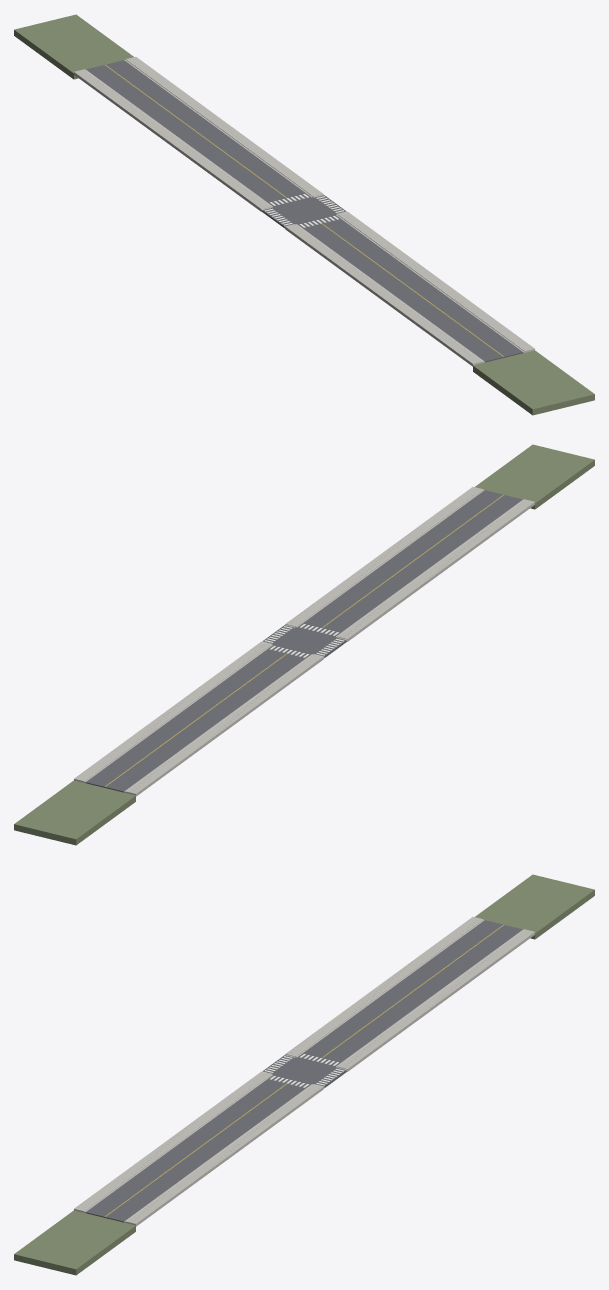
File: intersection.glb
3 renders of one model, top to bottom at view 1: azimuth 30°, elevation 25°; view 2: azimuth 150°, elevation 25°; view 3: azimuth 330°, elevation 25°, orthographic.
Visible parts, largest first — view 1: Road, Yards, Sidewalk, Gutters, SidewalkBase, Curbs, CenterLine, Crosswalks; view 2: Road, Yards, Sidewalk, Gutters, SidewalkBase, Curbs, CenterLine, Crosswalks; view 3: Road, Yards, Sidewalk, Gutters, SidewalkBase, Curbs, CenterLine, Crosswalks.
Boxes of the visible parts, x1=… form: Road: x1=86, y1=60, x2=523, y2=362; Yards: x1=14, y1=14, x2=594, y2=415; Sidewalk: x1=74, y1=56, x2=534, y2=363; Gutters: x1=85, y1=59, x2=524, y2=362; SidewalkBase: x1=74, y1=72, x2=534, y2=366; Curbs: x1=84, y1=59, x2=525, y2=362; CenterLine: x1=105, y1=65, x2=503, y2=356; Crosswalks: x1=264, y1=194, x2=344, y2=227; Road: x1=85, y1=490, x2=522, y2=792; Yards: x1=14, y1=444, x2=594, y2=845; Sidewalk: x1=74, y1=486, x2=534, y2=793; Gutters: x1=84, y1=489, x2=523, y2=792; SidewalkBase: x1=74, y1=502, x2=534, y2=796; Curbs: x1=83, y1=489, x2=524, y2=792; CenterLine: x1=105, y1=495, x2=503, y2=786; Crosswalks: x1=264, y1=624, x2=344, y2=657; Road: x1=85, y1=920, x2=522, y2=1222; Yards: x1=14, y1=874, x2=594, y2=1275; Sidewalk: x1=74, y1=916, x2=534, y2=1223; Gutters: x1=84, y1=919, x2=523, y2=1222; SidewalkBase: x1=74, y1=932, x2=534, y2=1226; Curbs: x1=83, y1=919, x2=524, y2=1222; CenterLine: x1=105, y1=925, x2=503, y2=1216; Crosswalks: x1=264, y1=1054, x2=344, y2=1087.
Size of the model in its own units: 18 by 2.15 by 260.
